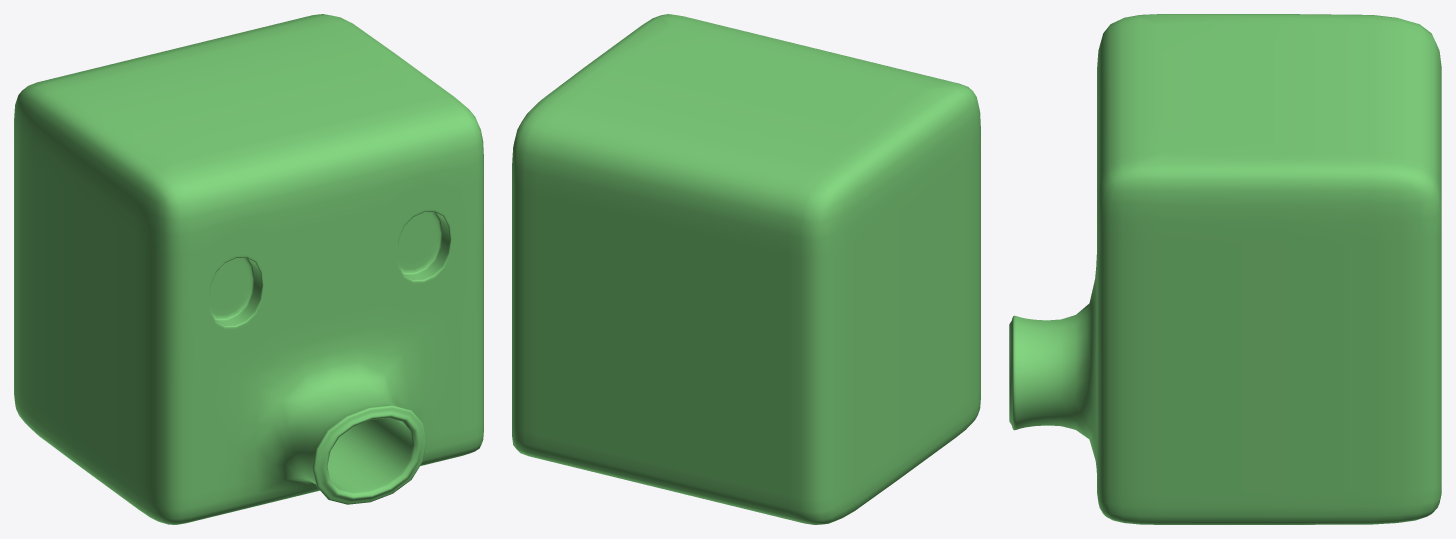
Rendered from QuickHeadWithMouth.fbx.
3 renders of one model, left to right at view 1: azimuth 30°, elevation 25°; view 2: azimuth 150°, elevation 25°; view 3: azimuth 270°, elevation 25°, orthographic. The views are drawn at different scales.
Visible parts, largest first — view 1: APPWithMouth; view 2: APPWithMouth; view 3: APPWithMouth.
Boxes of the visible parts, x1,y1,x2,y2 form: APPWithMouth: (14,14,483,524); APPWithMouth: (512,14,980,524); APPWithMouth: (1009,14,1441,524).
Size of the model in its own units: 1 by 1 by 1.09.
